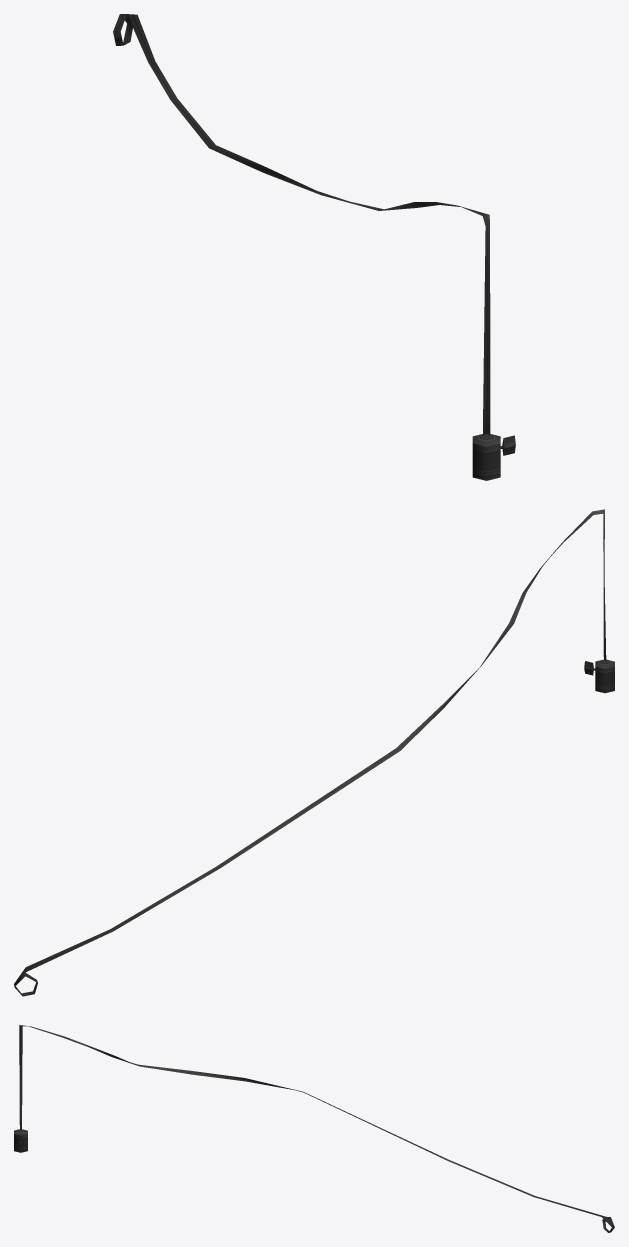
File: jsf_4P_Light_s02_b.fbx
The picture shows the model from 3 angles, top to bottom: view 1: azimuth 30°, elevation 25°; view 2: azimuth 150°, elevation 25°; view 3: azimuth 270°, elevation 25°; orthographic projection. The views are drawn at different scales.
Visible parts, largest first — view 1: jsf_4P_Light_s02_b; view 2: jsf_4P_Light_s02_b; view 3: jsf_4P_Light_s02_b.
Part boxes in pixels (x1,y1,x2,y2): jsf_4P_Light_s02_b: (113, 14, 515, 480); jsf_4P_Light_s02_b: (14, 509, 614, 996); jsf_4P_Light_s02_b: (14, 1025, 614, 1232).
Bounding box in the file's own units: 29.97 × 34.87 × 124.
